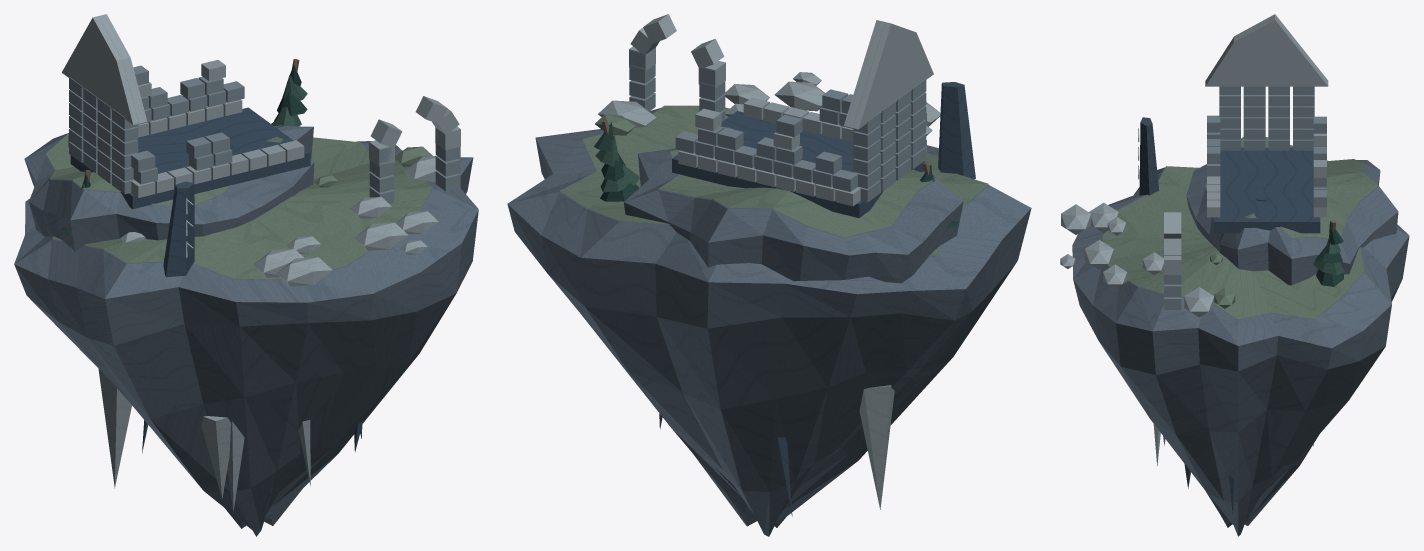
File: island-ruins.glb
3 views of the same model, side by side, from view 1: azimuth 30°, elevation 25°; view 2: azimuth 150°, elevation 25°; view 3: azimuth 270°, elevation 25° (orthographic). The views are drawn at different scales.
Parts seen in each view (by area): view 1: rock, detail; view 2: rock, detail; view 3: rock, detail.
Boxes of the visible parts, <box> form: rock: <box>14,126,478,536</box>; detail: <box>46,14,460,286</box>; rock: <box>507,108,1031,536</box>; detail: <box>560,14,988,256</box>; rock: <box>1072,137,1409,536</box>; detail: <box>1060,14,1378,319</box>.
Bounding box in the file's own units: 0.8531 × 1 × 0.6923.
Materials: 1 (1 with a texture image).
